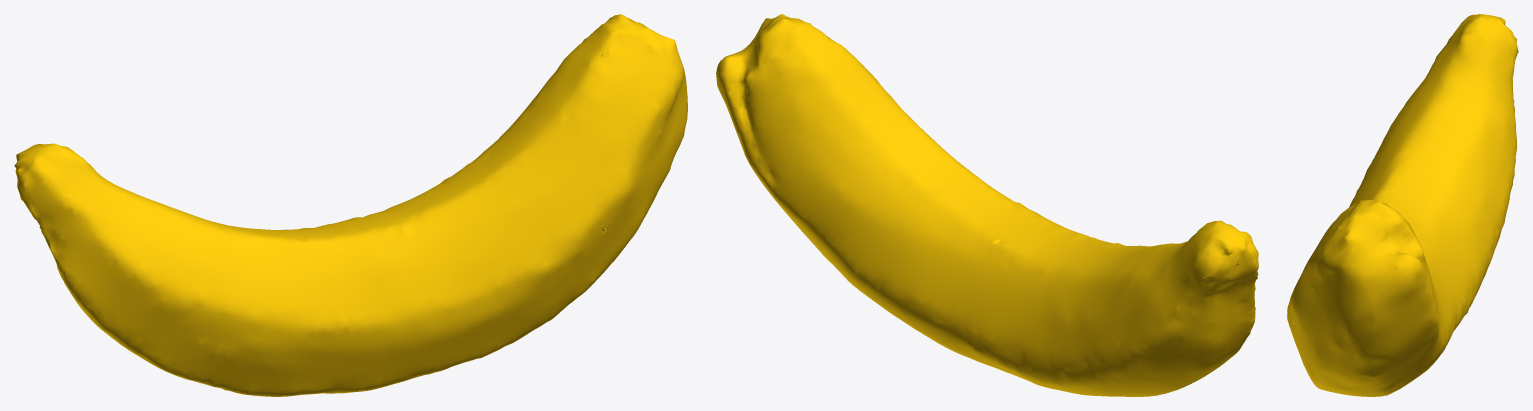
Rendered from item7.fbx.
3 views of the same model, side by side, from view 1: azimuth 30°, elevation 25°; view 2: azimuth 150°, elevation 25°; view 3: azimuth 270°, elevation 25° (orthographic). The views are drawn at different scales.
Parts seen in each view (by area): view 1: Banana.001; view 2: Banana.001; view 3: Banana.001.
Part boxes in pixels (bbox=[...]): Banana.001: bbox=[14, 14, 687, 396]; Banana.001: bbox=[716, 14, 1258, 396]; Banana.001: bbox=[1287, 14, 1518, 396].
Bounding box in the file's own units: 291 × 138 × 106.
